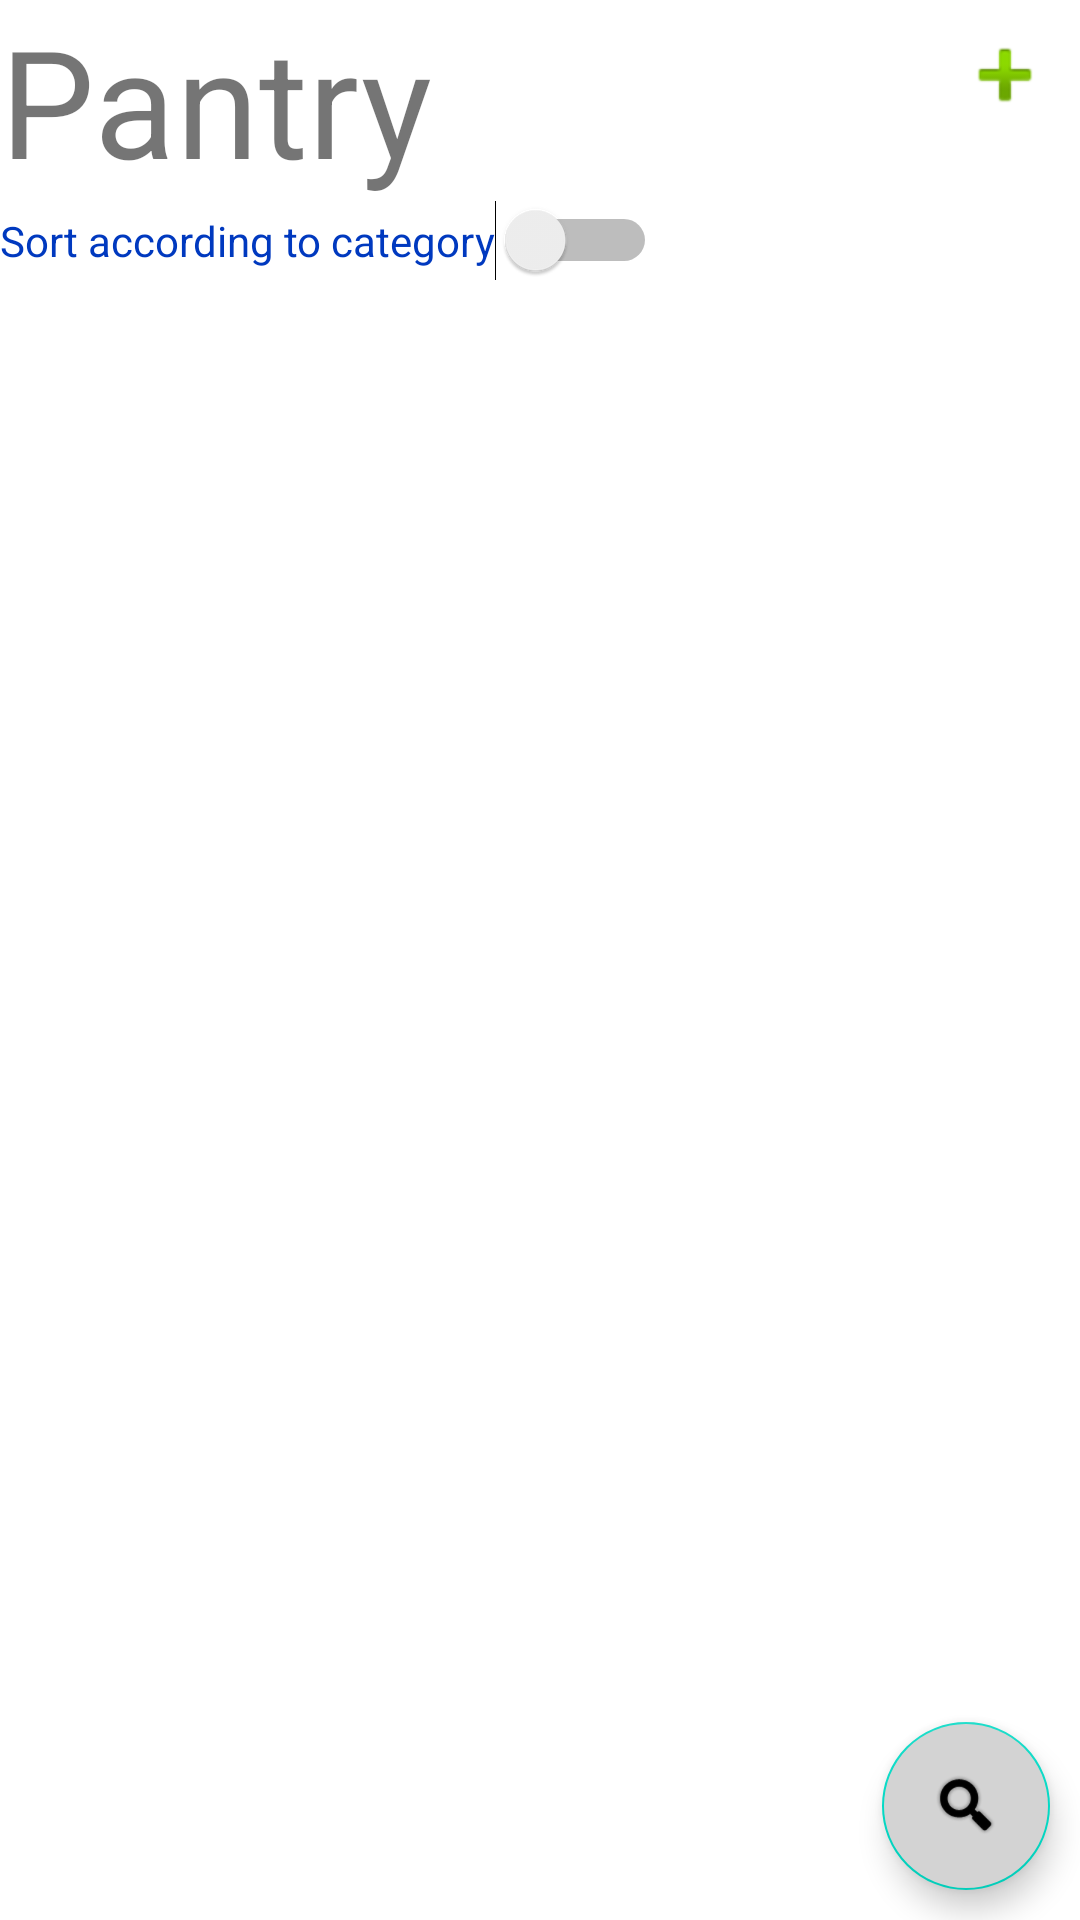

Named icons in this screenshot (1080px×1920px) and their bounding boxes, region(x1, y1, x2, y2):
Add new item button: region(978, 48, 1032, 102)
search category: region(882, 1722, 1050, 1890)
